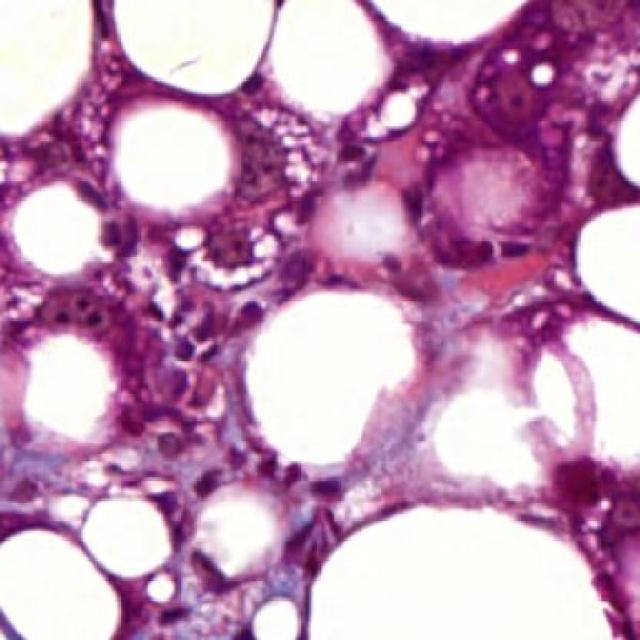steatosis: (82, 491, 173, 580)
